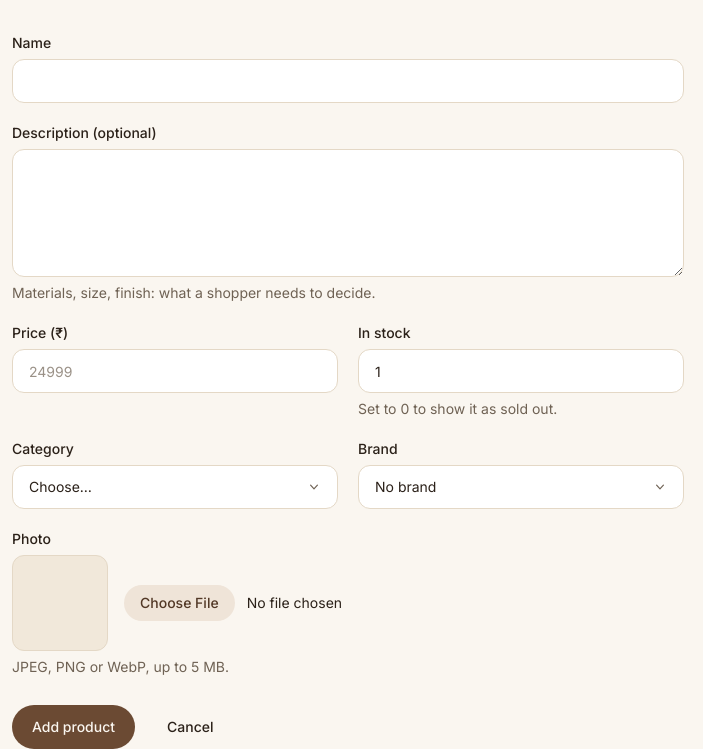
product form › checks the form before sending it
(page scrolled)
Click the button "Add product" at [74, 727], box [12,705,135,748]
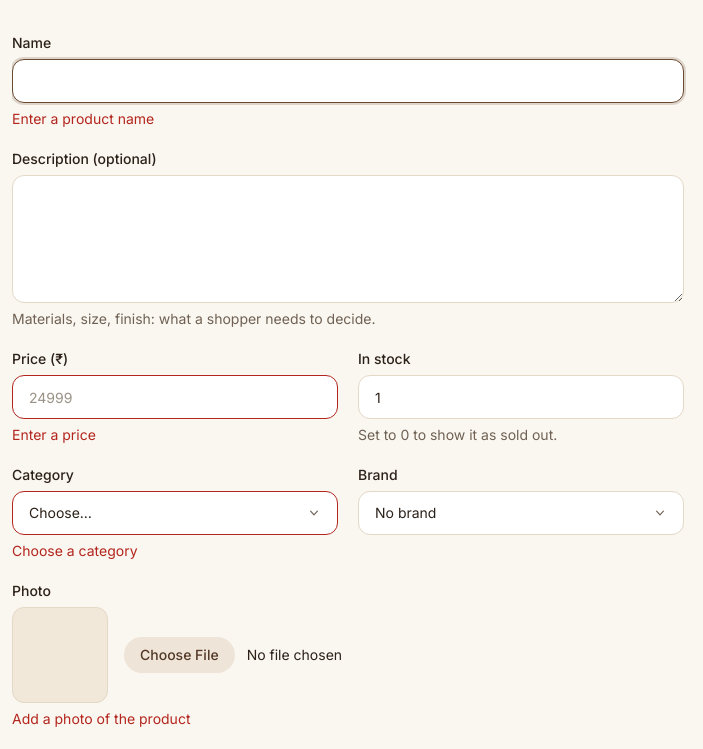
Result: the text "Enter a product name" is shown at [12,110,154,127]
Result: the text "Enter a price" is shown at [12,426,96,443]
Result: the text "Choose a category" is shown at [12,542,138,559]
